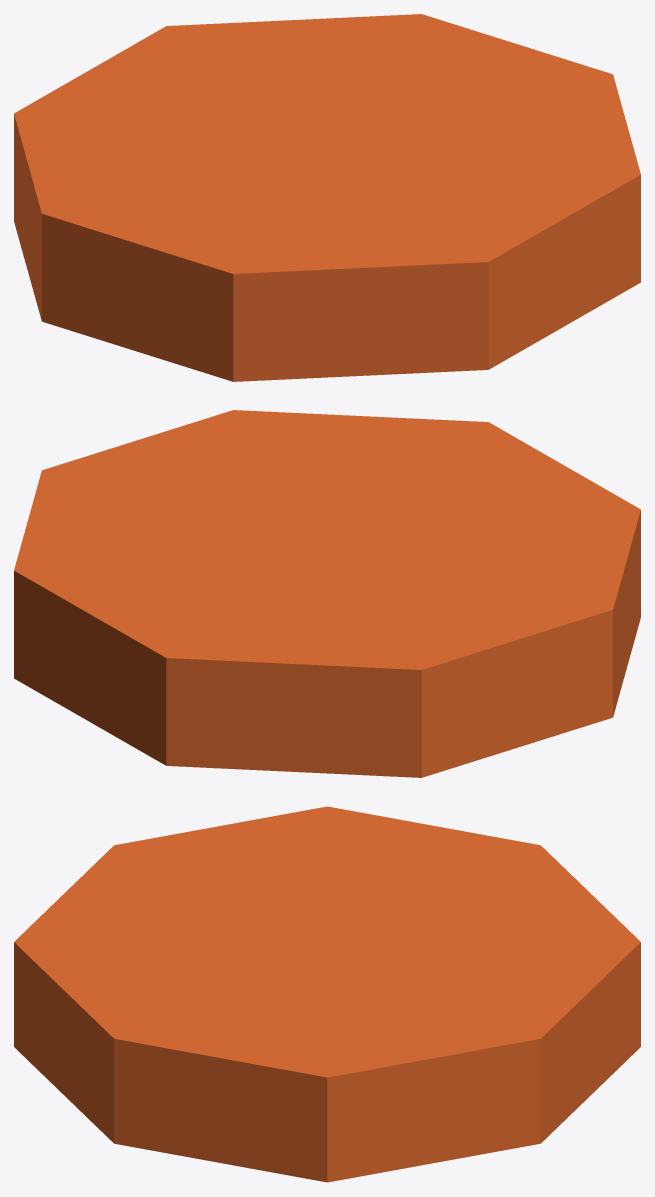
File: octogan-shape.fbx
3 views of the same model, one above another, from view 1: azimuth 30°, elevation 25°; view 2: azimuth 150°, elevation 25°; view 3: azimuth 270°, elevation 25° (orthographic). The views are drawn at different scales.
Visible parts, largest first — view 1: Octogan; view 2: Octogan; view 3: Octogan.
Boxes of the visible parts, x1=… form: Octogan: x1=14, y1=14, x2=640, y2=381; Octogan: x1=14, y1=410, x2=640, y2=777; Octogan: x1=14, y1=806, x2=640, y2=1182.
Size of the model in its own units: 79.13 by 14.29 by 77.34.
